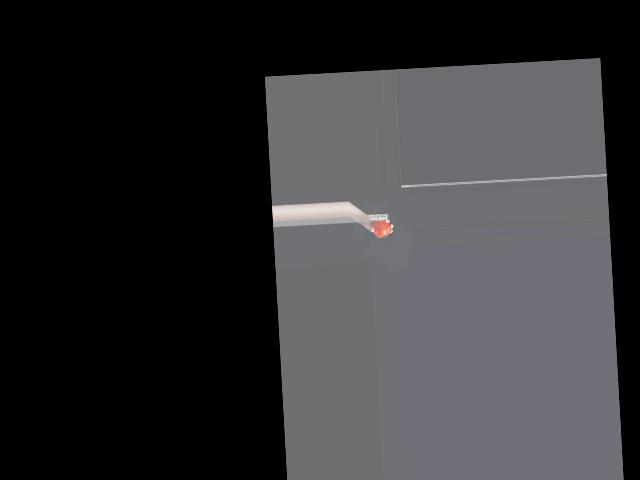tomato: (373, 219, 391, 238)
